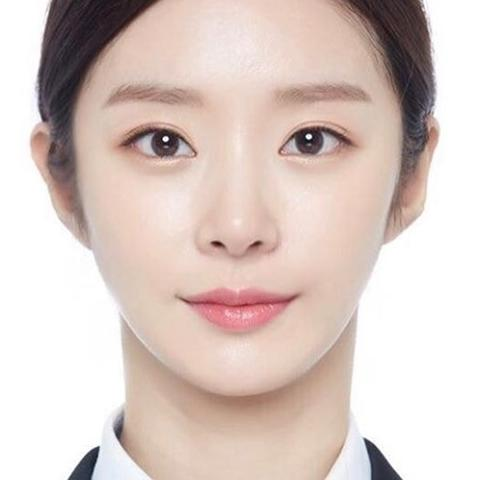opened: (78, 70, 392, 181)
